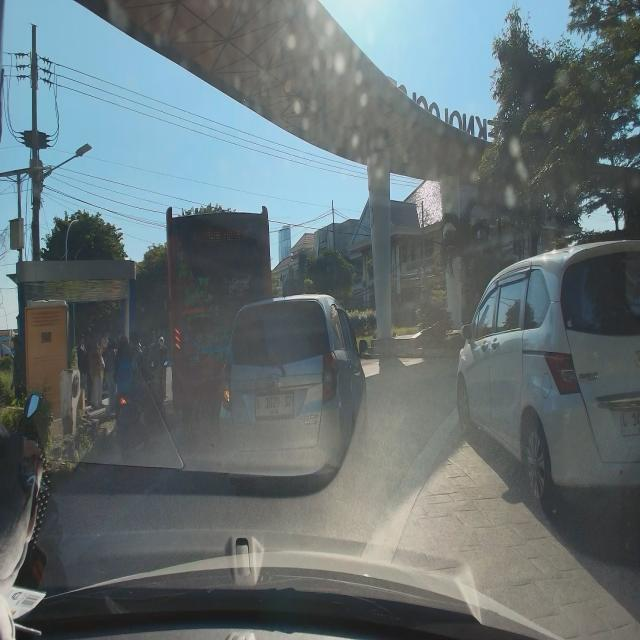bus: (160, 198, 283, 423)
car: (456, 233, 640, 508), (215, 289, 374, 500)
license-plate: (256, 394, 294, 421), (618, 408, 640, 438)
